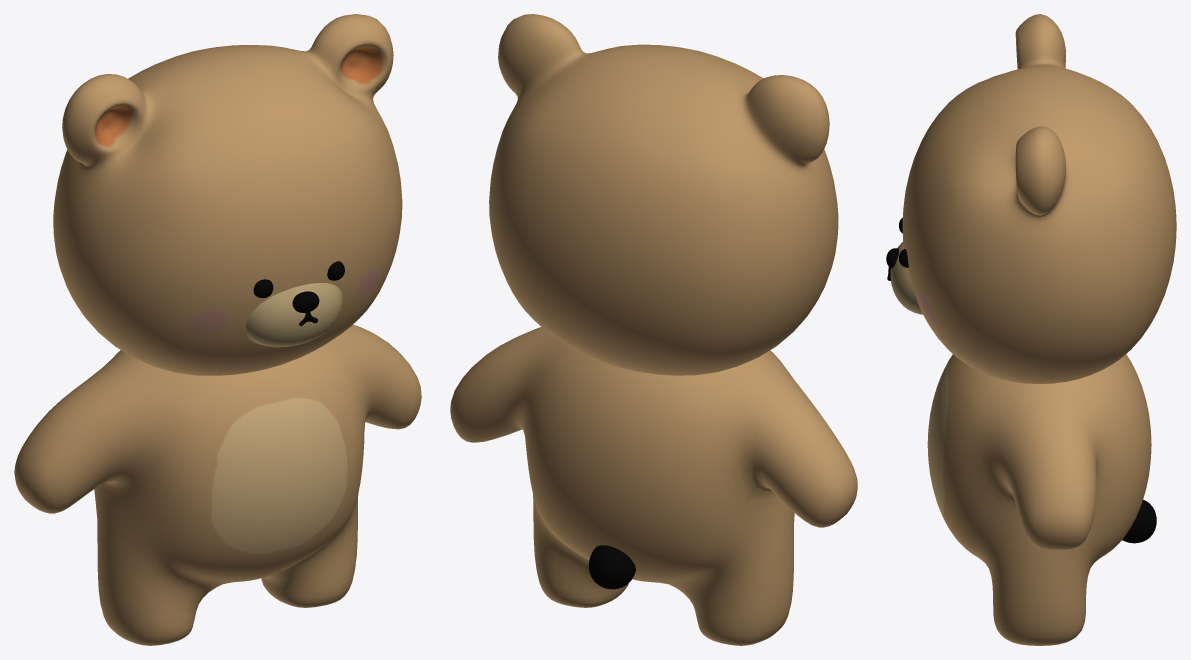
Rendered from kuma.obj.
The picture shows the model from 3 angles, left to right: view 1: azimuth 30°, elevation 25°; view 2: azimuth 150°, elevation 25°; view 3: azimuth 270°, elevation 25°; orthographic projection. The views are drawn at different scales.
Visible parts, largest first — view 1: 頭, 体, 顔, 目; view 2: 頭, 体, 尻尾; view 3: 頭, 体, 顔, 尻尾.
Part boxes in pixels (bbox=[...]): 頭: bbox=[53, 14, 402, 375]; 体: bbox=[14, 324, 421, 645]; 顔: bbox=[245, 283, 342, 347]; 目: bbox=[253, 261, 344, 298]; 頭: bbox=[489, 14, 838, 375]; 体: bbox=[450, 327, 857, 645]; 尻尾: bbox=[588, 545, 635, 589]; 頭: bbox=[902, 14, 1176, 383]; 体: bbox=[927, 354, 1151, 645]; 顔: bbox=[890, 241, 922, 314]; 尻尾: bbox=[1122, 499, 1156, 543].
Size of the model in its own units: 1.97 by 2.71 by 1.36.
